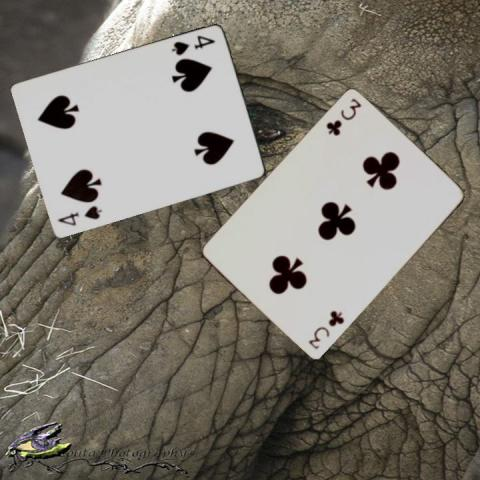3c: (305, 308, 346, 351), (322, 96, 362, 138)
4s: (55, 202, 104, 227), (171, 32, 217, 57)
